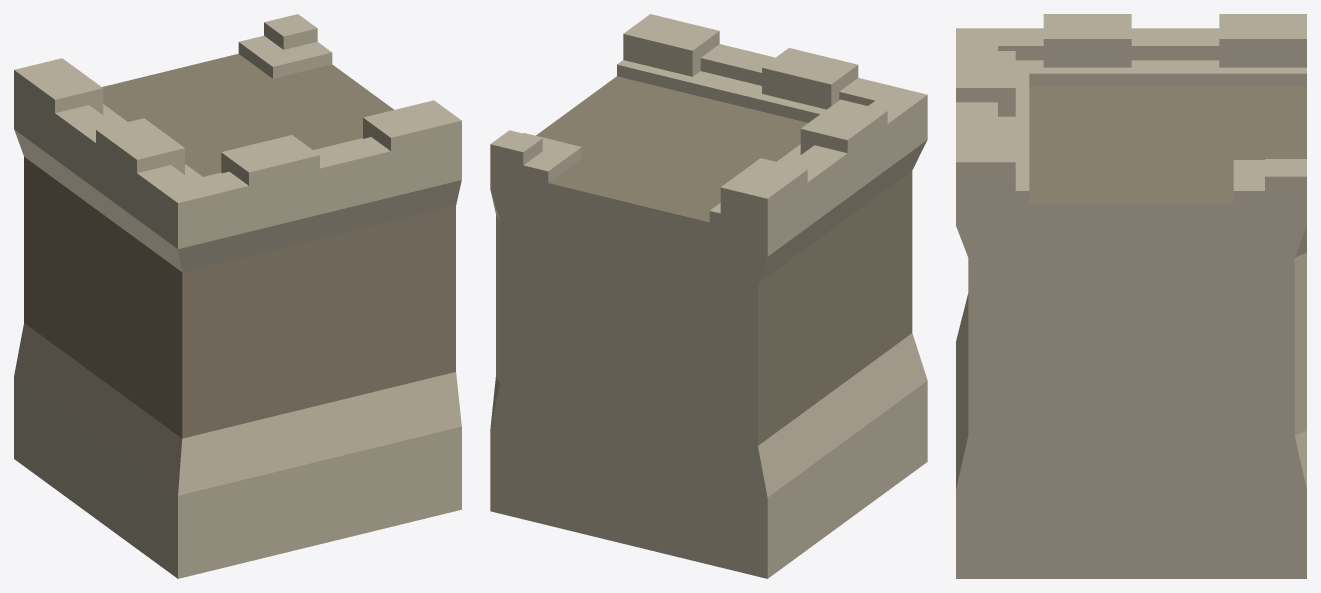
The model's file is wallCorner.glb.
3 views of the same model, side by side, from view 1: azimuth 30°, elevation 25°; view 2: azimuth 150°, elevation 25°; view 3: azimuth 270°, elevation 25° (orthographic). The views are drawn at different scales.
Parts seen in each view (by area): view 1: mesh_0, mesh_1; view 2: mesh_0, mesh_1; view 3: mesh_0, mesh_1.
Boxes of the visible parts, <box> form: mesh_0: <box>14,14,461,578</box>; mesh_1: <box>24,54,455,438</box>; mesh_0: <box>490,14,927,578</box>; mesh_1: <box>536,76,912,445</box>; mesh_0: <box>956,14,1306,578</box>; mesh_1: <box>1029,86,1306,203</box>.
Size of the model in its own units: 10 by 13.1 by 10.
